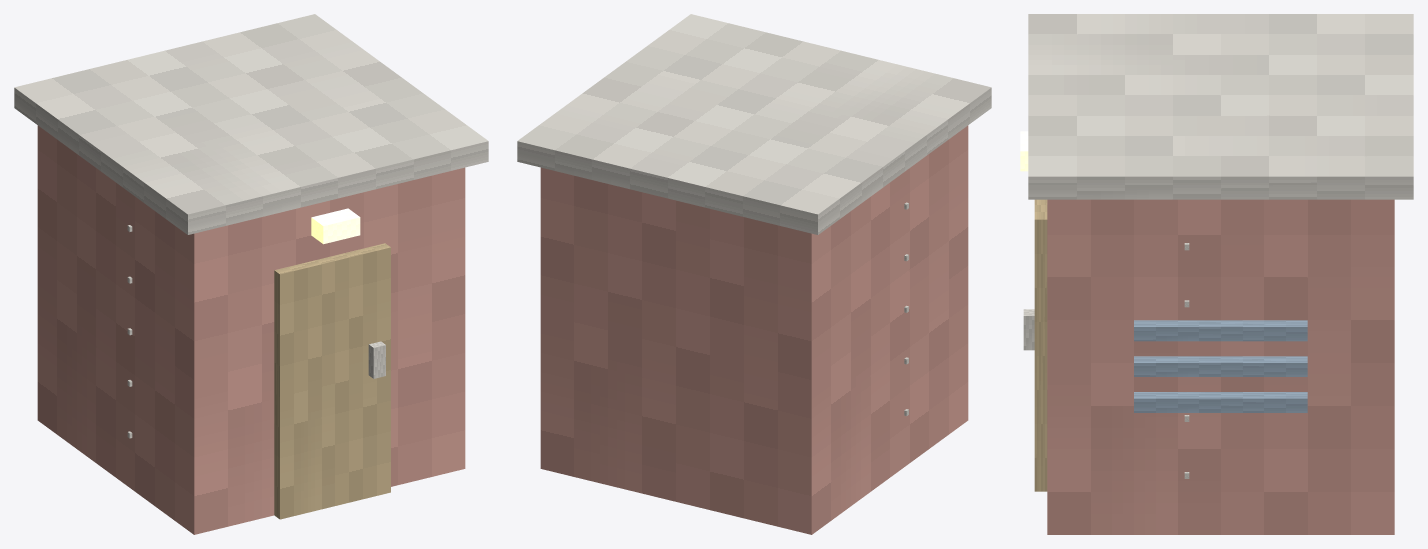
Rendered from pixel-modern-city-street-roof-access-hut-ab4a174d__29015.glb.
3 views of the same model, side by side, from view 1: azimuth 30°, elevation 25°; view 2: azimuth 150°, elevation 25°; view 3: azimuth 270°, elevation 25° (orthographic). The views are drawn at different scales.
Parts seen in each view (by area): view 1: roof-access-hut; view 2: roof-access-hut; view 3: roof-access-hut.
Boxes of the visible parts, box(x1,y1,x2,y2) form: roof-access-hut: box(14, 14, 488, 534); roof-access-hut: box(517, 14, 991, 534); roof-access-hut: box(1020, 14, 1413, 534).
Bounding box in the file's own units: 2.44 × 2.56 × 2.49.
5 materials, 5 textured.
